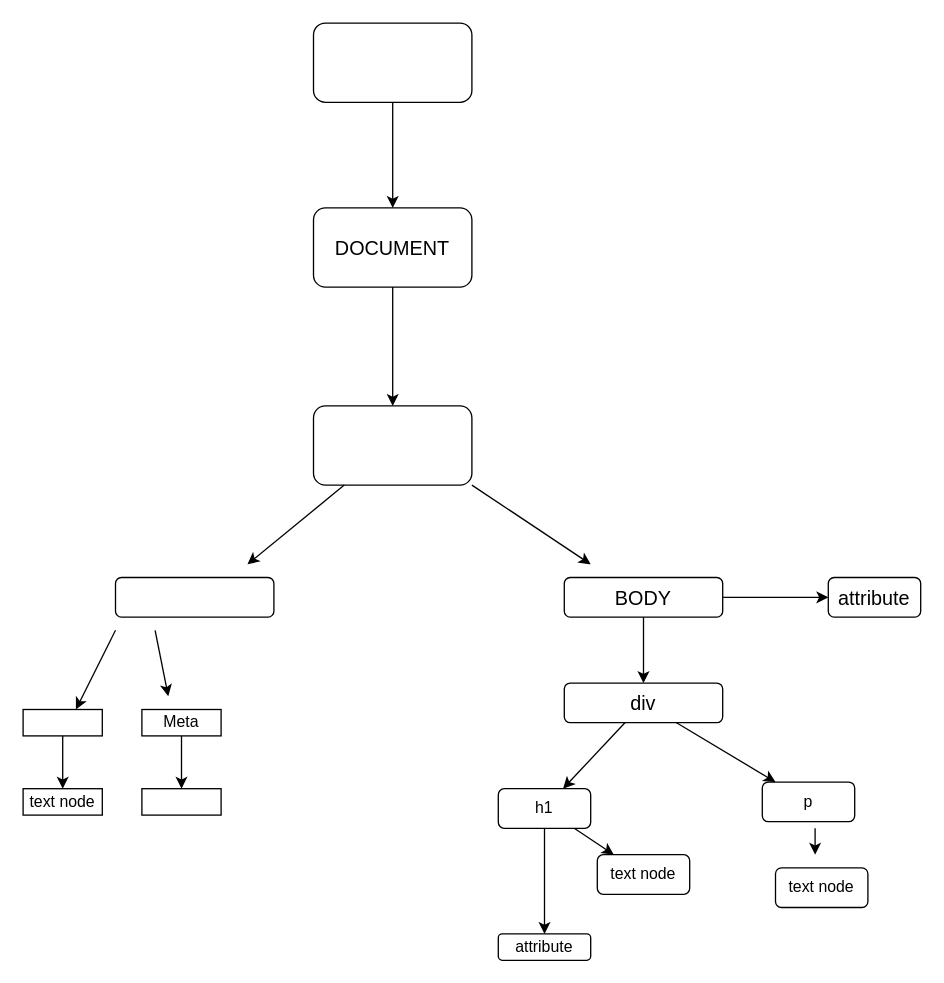
Some shapes in this 944 by 983 pixel diagram are drawn without their labels. Each missing label, with the centre of its shape:
attributes: the point at 181,801
HEAD: the point at 194,596
HTML: the point at 392,445
Title: the point at 62,722
Window: the point at 392,62
